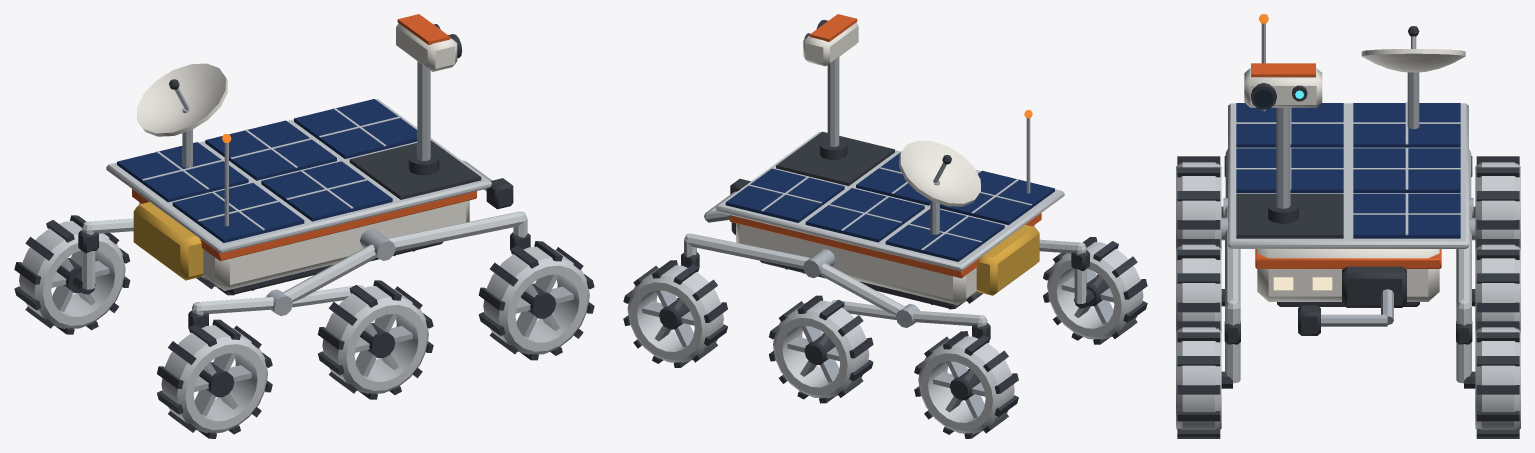
Rendered from survey_rover.glb.
3 views of the same model, side by side, from view 1: azimuth 30°, elevation 25°; view 2: azimuth 150°, elevation 25°; view 3: azimuth 270°, elevation 25° (orthographic). The views are drawn at different scales.
Visible parts, largest first — view 1: survey_rover, spin_wheel_rr, spin_wheel_mr, spin_wheel_fr, spin_wheel_rl; view 2: survey_rover, spin_wheel_ml, spin_wheel_rl, spin_wheel_fl, spin_wheel_rr; view 3: survey_rover, spin_wheel_fl, spin_wheel_fr, spin_wheel_ml, spin_wheel_mr, spin_wheel_rl, spin_wheel_rr.
Part boxes in pixels (x1,y1,x2,y2): survey_rover: [72, 14, 530, 328]; spin_wheel_rr: [157, 319, 272, 438]; spin_wheel_mr: [317, 280, 433, 399]; spin_wheel_fr: [478, 241, 594, 360]; spin_wheel_rl: [14, 215, 130, 334]; survey_rover: [681, 14, 1094, 338]; spin_wheel_ml: [769, 295, 873, 403]; spin_wheel_rl: [914, 331, 1018, 438]; spin_wheel_fl: [623, 260, 727, 367]; spin_wheel_rr: [1043, 237, 1147, 344]; survey_rover: [1221, 14, 1475, 388]; spin_wheel_fl: [1475, 321, 1520, 438]; spin_wheel_fr: [1176, 321, 1221, 438]; spin_wheel_ml: [1475, 239, 1520, 331]; spin_wheel_mr: [1176, 239, 1221, 331]; spin_wheel_rl: [1475, 156, 1520, 248]; spin_wheel_rr: [1176, 156, 1221, 248].
Size of the model in its own units: 1.56 by 1.11 by 1.06.
